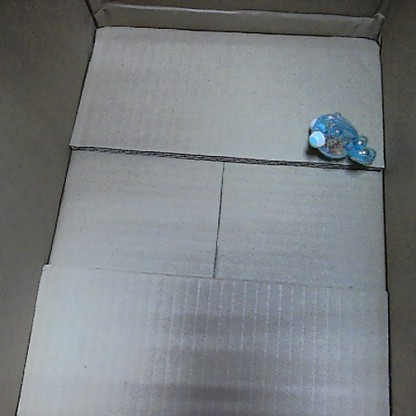bluefish: (304, 104, 377, 171)
